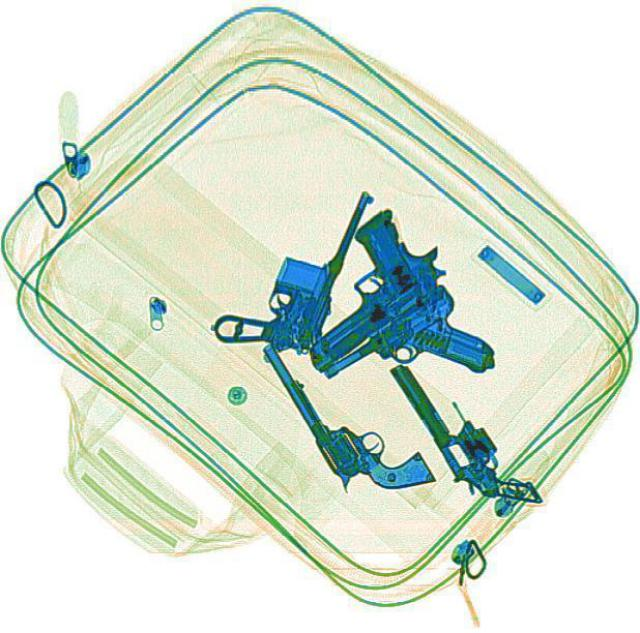Gun: (256, 308, 434, 515), (254, 198, 462, 373), (208, 162, 374, 365), (314, 281, 502, 440), (388, 338, 540, 528)
